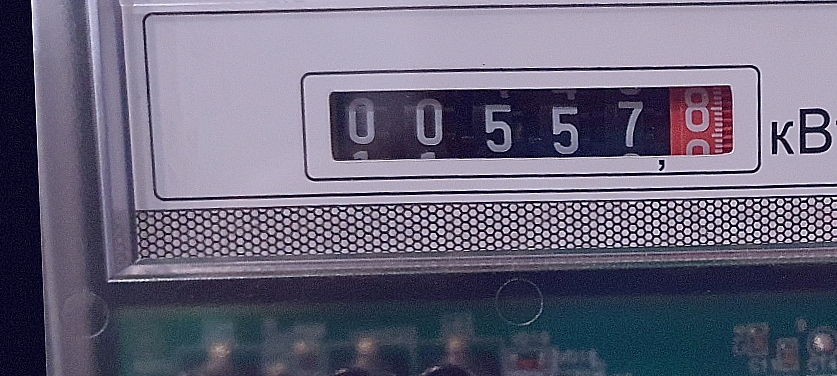0: (342, 91, 379, 149), (410, 94, 446, 148)
5: (545, 98, 585, 158), (479, 98, 515, 156)
7: (611, 95, 646, 151)
8: (681, 85, 711, 135)
screen: (295, 46, 768, 196)
